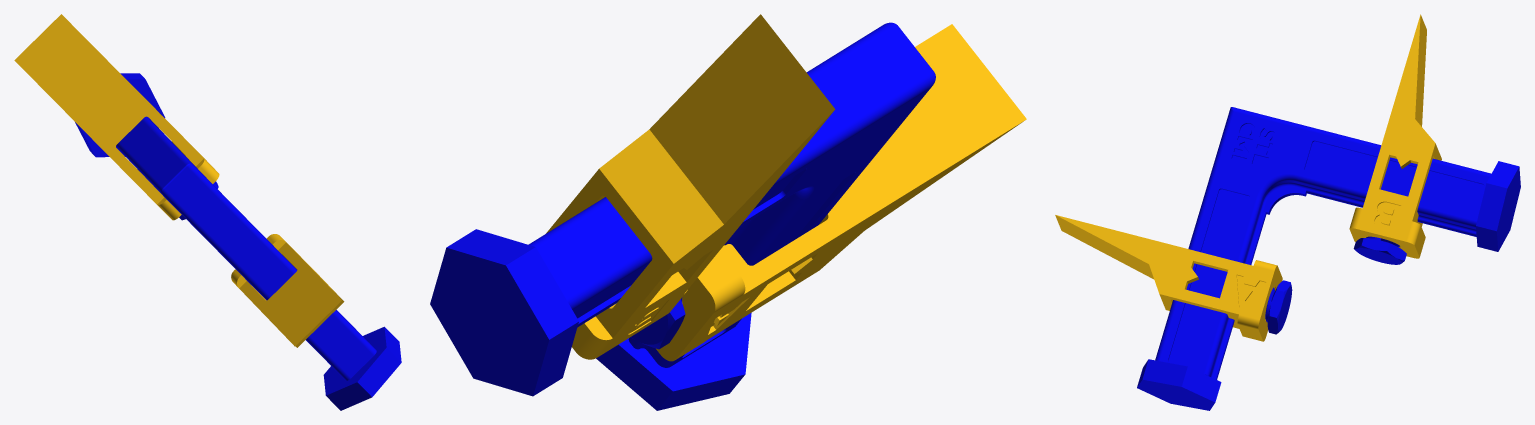
Rendered from assembly.glb.
The picture shows the model from 3 angles, left to right: view 1: azimuth 30°, elevation 25°; view 2: azimuth 150°, elevation 25°; view 3: azimuth 270°, elevation 25°; orthographic projection. The views are drawn at different scales.
Visible parts, largest first — view 1: Part 1 (×5); view 2: Part 1 (×6); view 3: Part 1 (×7).
Part boxes in pixels (x1,y1,x2,y2): Part 1 (×5): (14,14,401,410); Part 1 (×6): (430,14,1026,410); Part 1 (×7): (1055,14,1520,410).
Bounding box in the file's own units: 0.103 × 0.1294 × 0.1702.
